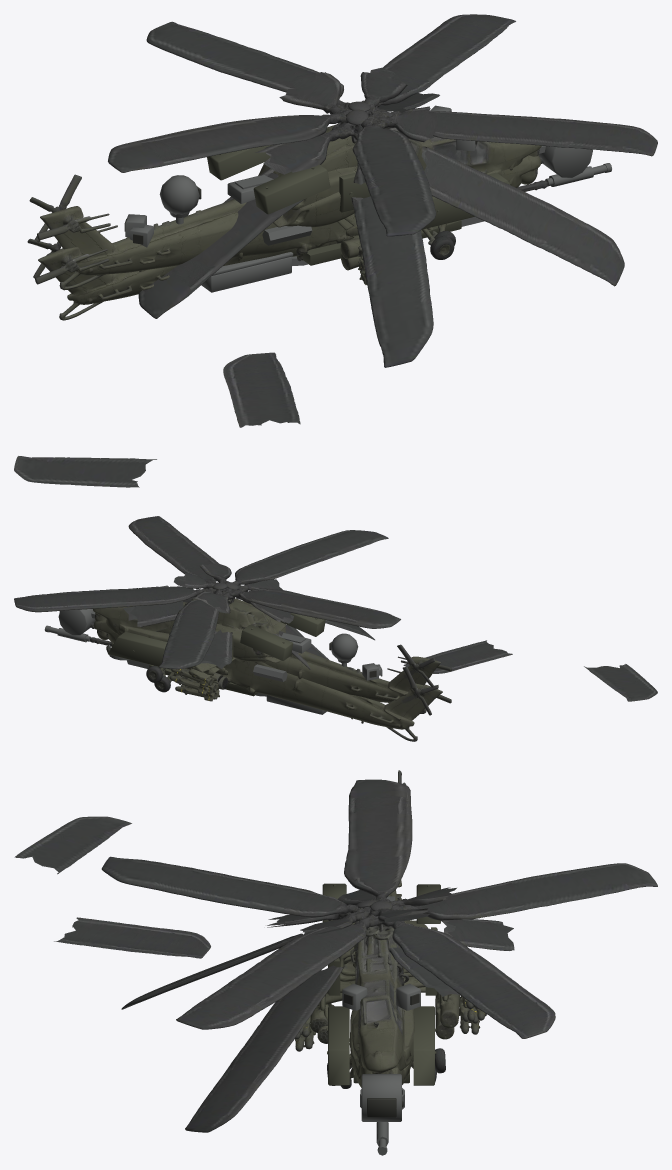
Rendered from heli_peten.glb.
3 views of the same model, one above another, from view 1: azimuth 30°, elevation 25°; view 2: azimuth 150°, elevation 25°; view 3: azimuth 270°, elevation 25° (orthographic). The views are drawn at different scales.
Visible parts, largest first — view 1: WRECK_rotor_metal, rotor_metal, hull_hull, WRECK_hull_hull, kit_armour_2_hull_hull, kit_firepower_2_hull_metal, kit_sensors_3_hull_hull, kit_sensors_2_hull_hull, kit_armour_3_hull_hull, kit_sensors_1_hull_glass, kit_armour_1_hull_hull, WRECK_hull_glass; view 2: rotor_metal, WRECK_hull_hull, WRECK_rotor_metal, hull_hull, kit_armour_2_hull_hull, kit_armour_3_hull_hull, kit_sensors_3_hull_hull, hull_glass, kit_sensors_1_hull_glass, kit_sensors_2_hull_hull, kit_firepower_2_hull_metal; view 3: rotor_metal, WRECK_rotor_metal, WRECK_hull_hull, kit_armour_3_hull_hull, hull_hull, kit_sensors_1_hull_glass, kit_sensors_2_hull_hull, hull_glass, WRECK_hull_glass, kit_armour_2_hull_hull.
Part boxes in pixels (box(x1,y1,x2,y2)): WRECK_rotor_metal: box(14, 67, 624, 487); rotor_metal: box(108, 14, 657, 236); hull_hull: box(29, 155, 541, 290); WRECK_hull_hull: box(27, 136, 541, 320); kit_armour_2_hull_hull: box(207, 145, 330, 214); kit_firepower_2_hull_metal: box(201, 217, 483, 292); kit_sensors_3_hull_hull: box(159, 174, 273, 224); kit_sensors_2_hull_hull: box(124, 105, 477, 247); kit_armour_3_hull_hull: box(302, 172, 510, 265); kit_sensors_1_hull_glass: box(538, 146, 592, 177); kit_armour_1_hull_hull: box(339, 172, 370, 212); WRECK_hull_glass: box(321, 127, 417, 171); rotor_metal: box(14, 516, 400, 669); WRECK_hull_hull: box(93, 602, 451, 741); WRECK_rotor_metal: box(123, 563, 657, 701); hull_hull: box(93, 614, 451, 713); kit_armour_2_hull_hull: box(240, 613, 325, 660); kit_armour_3_hull_hull: box(108, 632, 258, 696); kit_sensors_3_hull_hull: box(278, 633, 358, 666); hull_glass: box(185, 598, 270, 629); kit_sensors_1_hull_glass: box(58, 609, 95, 635); kit_sensors_2_hull_hull: box(160, 585, 382, 681); kit_firepower_2_hull_metal: box(127, 660, 326, 714); rotor_metal: box(101, 779, 657, 1038); WRECK_rotor_metal: box(14, 816, 514, 1132); WRECK_hull_hull: box(295, 894, 486, 1088); kit_armour_3_hull_hull: box(327, 1006, 436, 1085); hull_hull: box(299, 770, 480, 1087); kit_sensors_1_hull_glass: box(361, 1074, 401, 1121); kit_sensors_2_hull_hull: box(342, 983, 420, 1010); hull_glass: box(365, 920, 406, 972); WRECK_hull_glass: box(350, 921, 389, 969); kit_armour_2_hull_hull: box(322, 883, 440, 923).
Size of the model in its own units: 6.31 by 1.32 by 4.78.
Materials: 1 (1 with a texture image).
